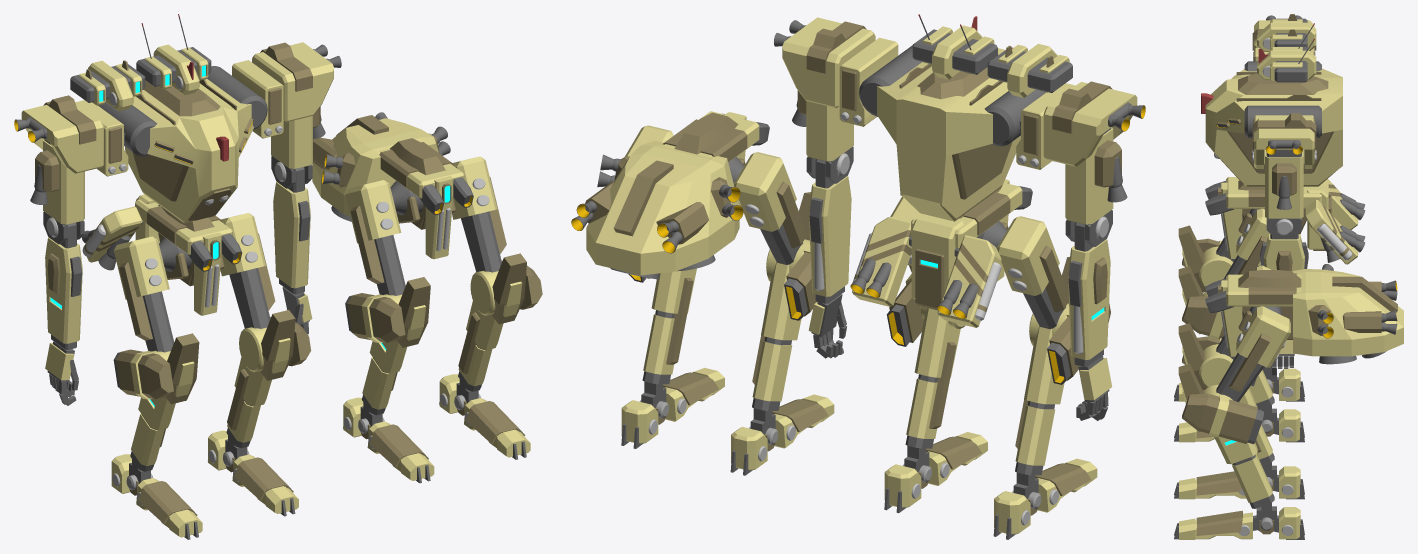
Rendered from mech 'Quartz'.fbx.
3 views of the same model, side by side, from view 1: azimuth 30°, elevation 25°; view 2: azimuth 150°, elevation 25°; view 3: azimuth 270°, elevation 25° (orthographic). The views are drawn at different scales.
Visible parts, largest first — view 1: pCube62, pCube102 (×4), pCube61 (×2), pCube131 (×4), pCube119 (×2), pCube78, pCube114 (×2), pCube81 (×2), pCube106 (×4), pCube79, pCube89, pCube101 (×2) (+26 smaller); view 2: pCube62, pCube78, pCube61 (×2), pCube106 (×4), pCube114 (×2), pCube137 (×4), pCube81 (×2), pCube131 (×4), pCube79, pCube89, pCube104 (×2), pCube117 (×2) (+26 smaller); view 3: pCube62, pCube78, pCube116 (×2), pCube101 (×2), pCube137 (×4), pCube106 (×3), pCube131 (×2), pCylinder40 (×2), pCube97 (×2), pCube109 (×2), pCube99 (×2), pCube79 (+32 smaller).
Part boxes in pixels (<box>): pCube62: <box>125,79,253,223</box>; pCube102 (×4): <box>142,211,501,352</box>; pCube61 (×2): <box>45,181,310,343</box>; pCube131 (×4): <box>138,401,525,523</box>; pCube119 (×2): <box>113,293,405,399</box>; pCube78: <box>312,118,438,216</box>; pCube114 (×2): <box>114,180,401,299</box>; pCube81 (×2): <box>43,116,312,224</box>; pCube106 (×4): <box>131,345,492,466</box>; pCube79: <box>252,42,333,122</box>; pCube89: <box>21,102,103,173</box>; pCube101 (×2): <box>220,156,497,276</box>; pCube62: <box>877,48,1020,221</box>; pCube78: <box>586,140,739,275</box>; pCube61 (×2): <box>809,176,1110,359</box>; pCube106 (×4): <box>643,314,1055,465</box>; pCube114 (×2): <box>734,152,1059,295</box>; pCube137 (×4): <box>621,400,1030,534</box>; pCube81 (×2): <box>806,101,1113,224</box>; pCube131 (×4): <box>663,372,1091,495</box>; pCube79: <box>782,17,875,108</box>; pCube89: <box>1043,82,1137,166</box>; pCube104 (×2): <box>761,262,1064,404</box>; pCube117 (×2): <box>651,268,960,377</box>; pCube62: <box>1205,68,1342,186</box>; pCube78: <box>1293,269,1403,356</box>; pCube116 (×2): <box>1182,296,1263,444</box>; pCube101 (×2): <box>1236,208,1290,367</box>; pCube137 (×4): <box>1279,368,1300,539</box>; pCube106 (×3): <box>1232,370,1272,502</box>; pCube131 (×2): <box>1196,471,1242,535</box>; pCylinder40 (×2): <box>1199,246,1233,387</box>; pCube97 (×2): <box>1178,225,1207,390</box>; pCube109 (×2): <box>1226,177,1321,306</box>; pCube99 (×2): <box>1221,182,1242,356</box>; pCube79: <box>1254,118,1314,168</box>.
Bounding box in the file's own units: 28.25 × 25.96 × 13.93.
